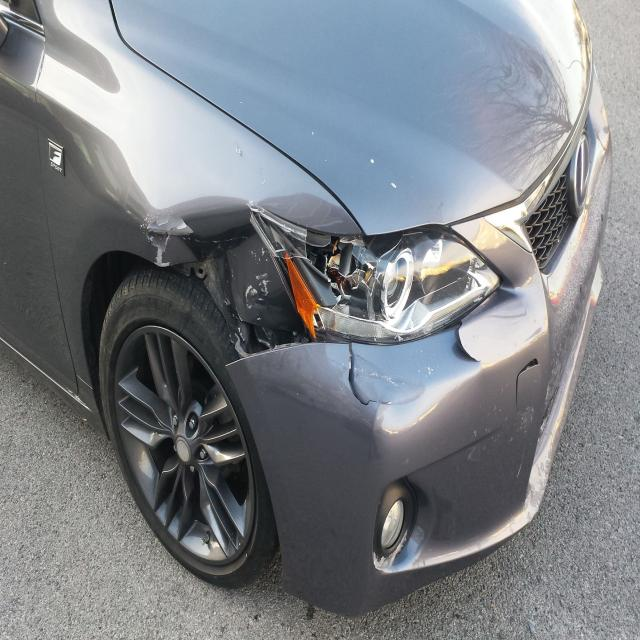crush: (119, 193, 484, 414)
